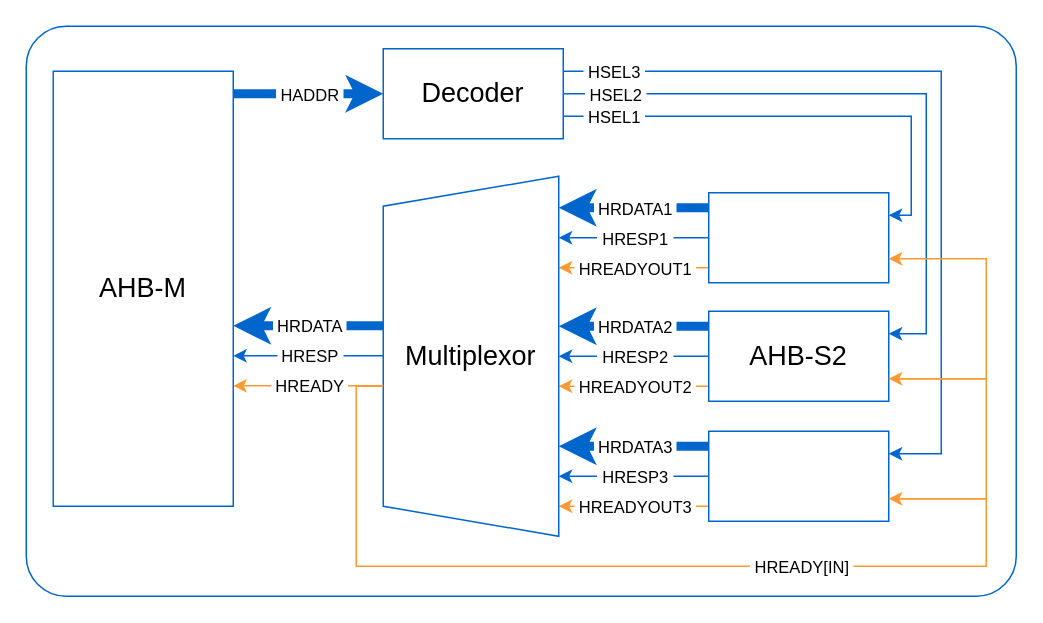
This 1043x623 diagram has some shape labels left out. The box of each missing label's shape, as (x1, y1, x2, y2) in pixels:
AHB-S1: (707, 191, 889, 283)
AHB-S3: (707, 430, 889, 521)
